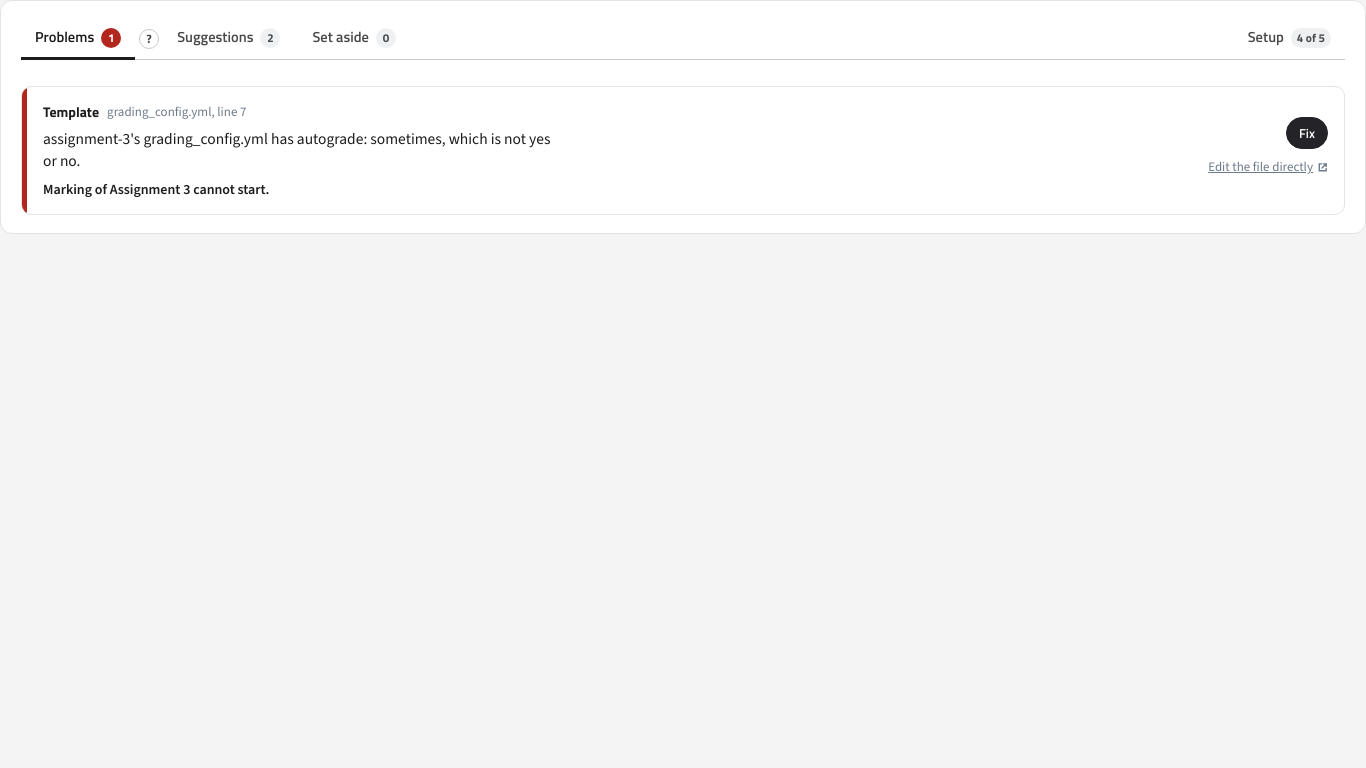
Test: the circle before a suggestion › keeps the dialog open on a stale file and writes nothing
The width and height of the screenshot is (1366, 768).
Click the tab "Suggestions 2".
click(229, 39)  # box [163, 19, 294, 60]
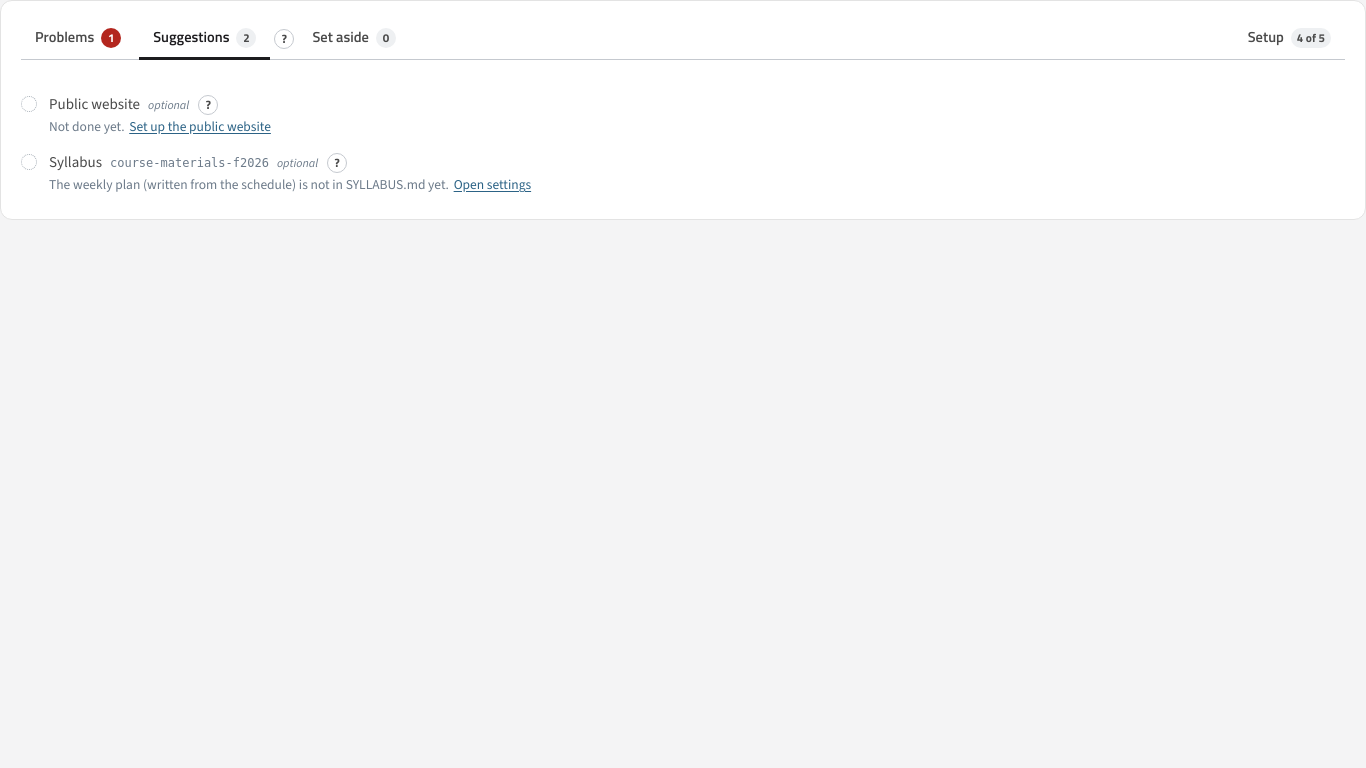
Click the button named "Set aside Public website…".
click(29, 104)  # box [21, 96, 37, 112]
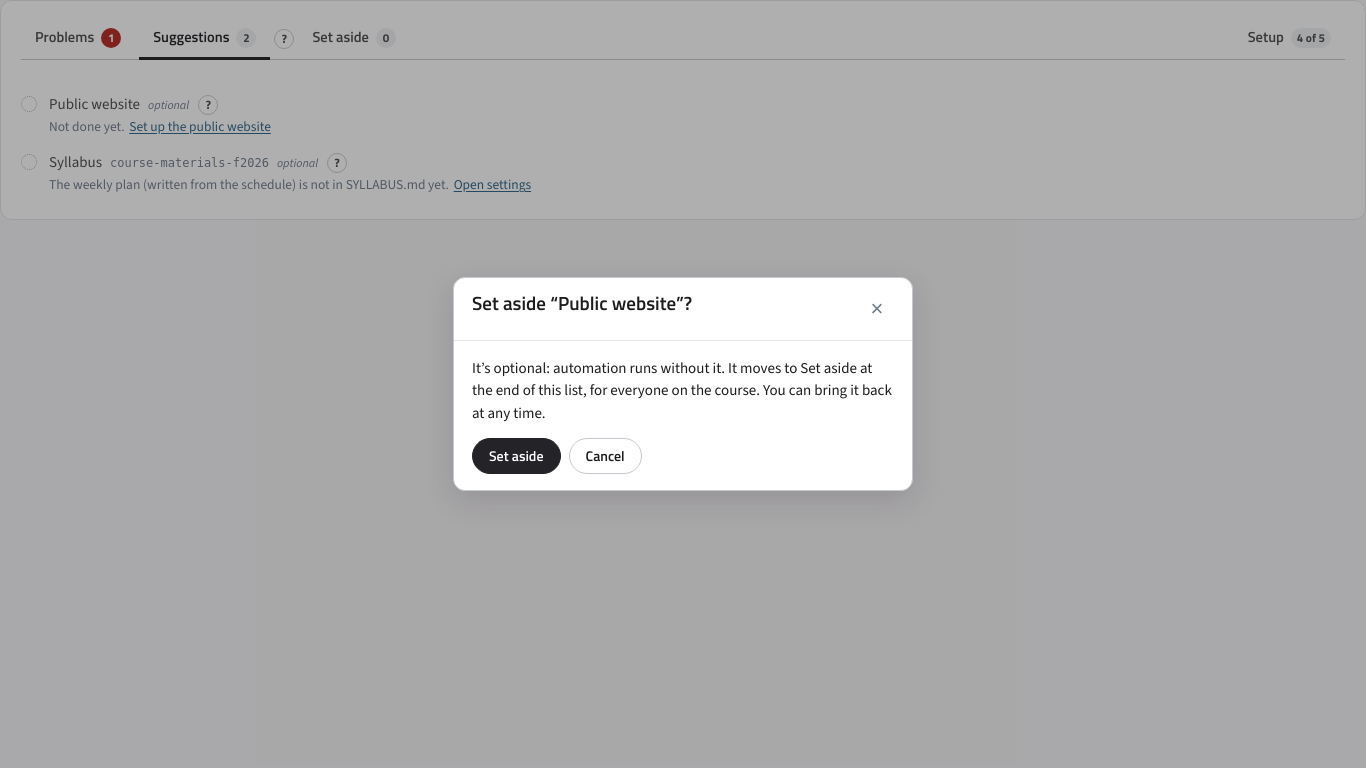
Click the button "Set aside".
click(516, 456)  # box [472, 438, 560, 474]
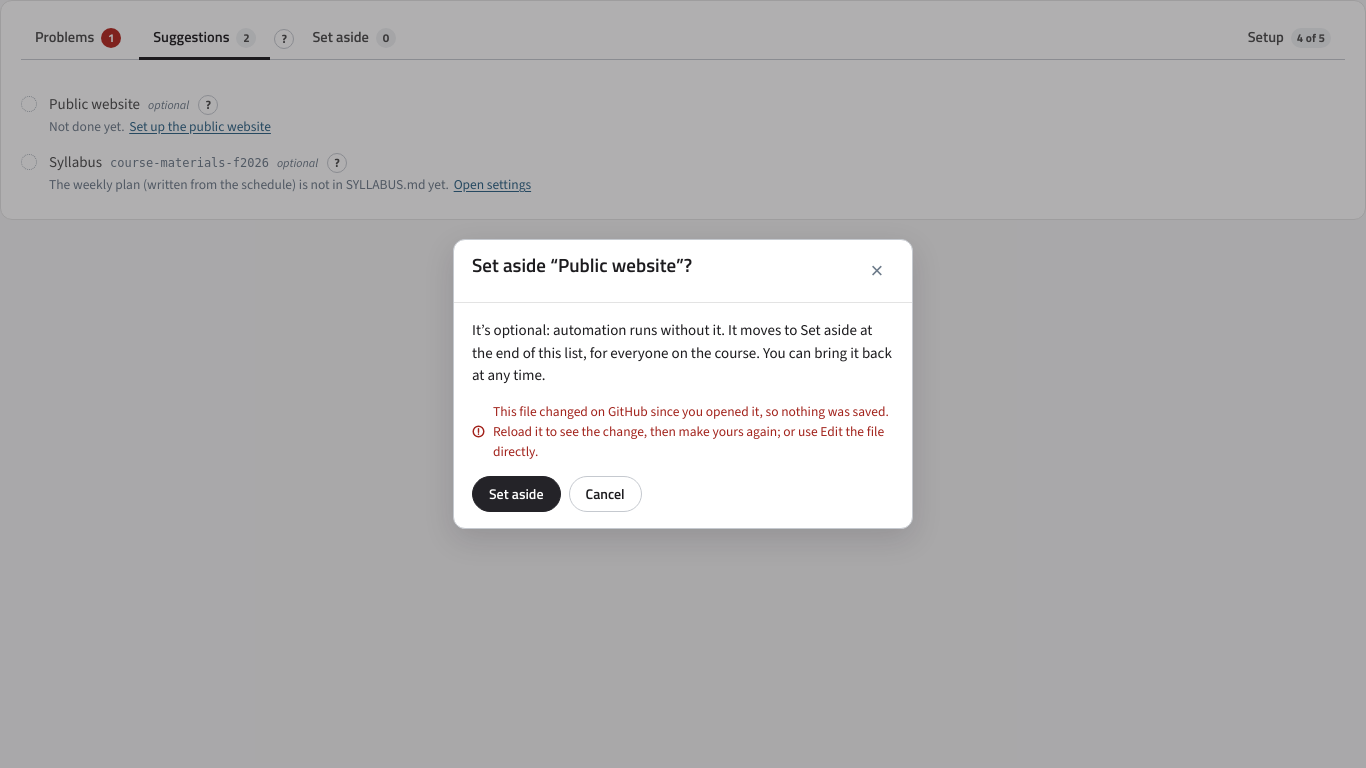
Expected: the button "Set aside" is shown, [472, 476, 560, 512]
Expected: the dialog shows "This file changed on GitHub since you opened it, so nothing was saved. Reload it to see the change, then make yours again; or use Edit the file directly.", [493, 402, 889, 460]
